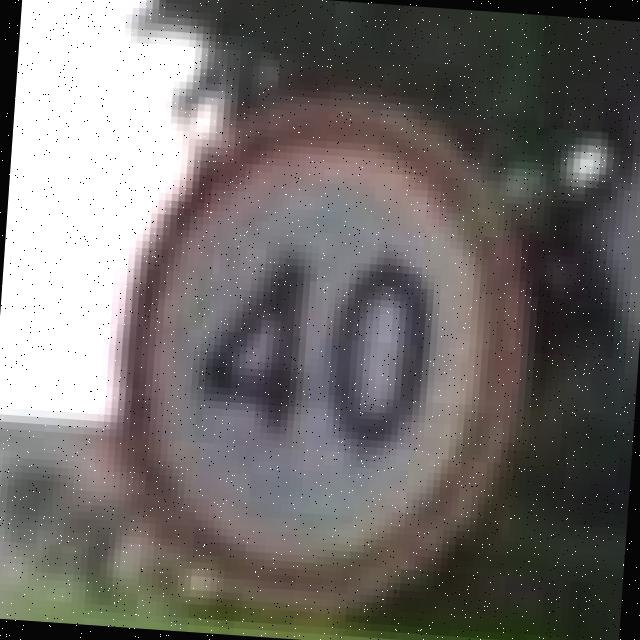Ograniczenie predkosci do 40: (97, 78, 551, 633)
